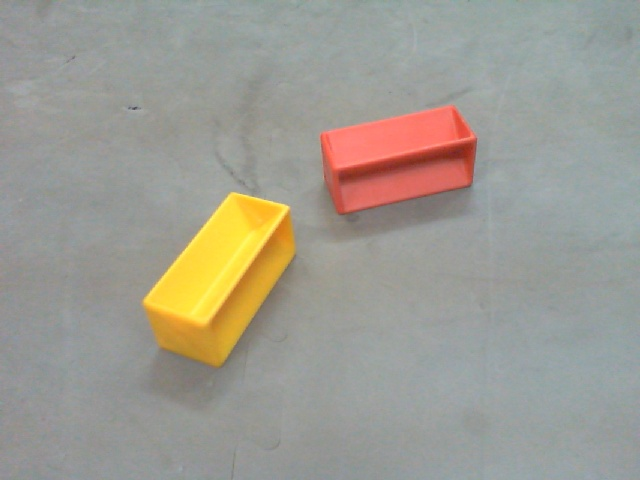RedSample: (320, 104, 479, 221)
YellowSample: (141, 189, 299, 370)
